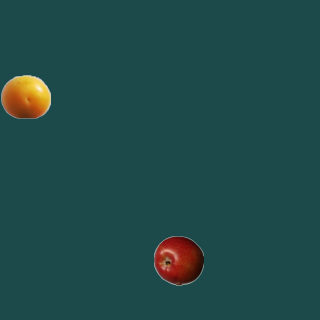Apple Braeburn: (153, 235, 203, 285)
Cherry Wax Yellow: (0, 71, 50, 121)
